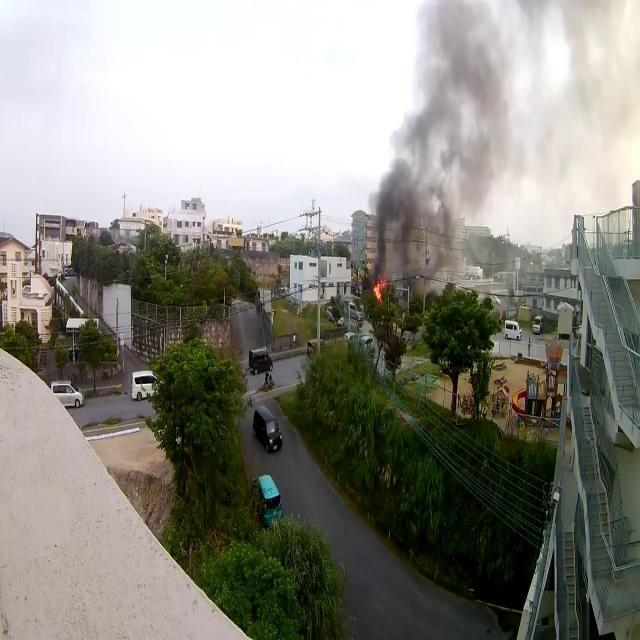Fire: (372, 280, 384, 302)
